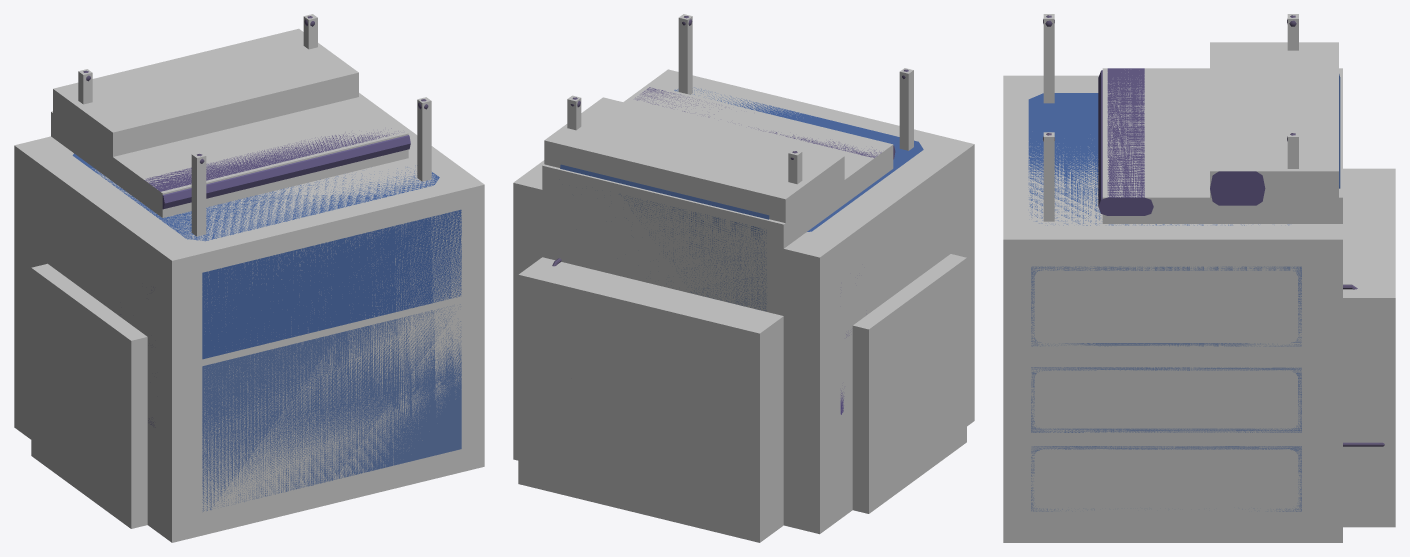
File: SM_Building_03_Top.fbx
The picture shows the model from 3 angles, left to right: view 1: azimuth 30°, elevation 25°; view 2: azimuth 150°, elevation 25°; view 3: azimuth 270°, elevation 25°; orthographic projection. The views are drawn at different scales.
Visible parts, largest first — view 1: SM_Building_03_Top_ConvexHulls, SM_Building_03_Top; view 2: SM_Building_03_Top_ConvexHulls, SM_Building_03_Top; view 3: SM_Building_03_Top_ConvexHulls, SM_Building_03_Top.
Part boxes in pixels (x1,y1,x2,y2): SM_Building_03_Top_ConvexHulls: (14,14,484,542); SM_Building_03_Top: (72,16,461,511); SM_Building_03_Top_ConvexHulls: (513,14,974,542); SM_Building_03_Top: (552,16,923,414); SM_Building_03_Top_ConvexHulls: (1003,14,1395,542); SM_Building_03_Top: (1028,15,1384,511).
Bounding box in the file's own units: 877 × 842 × 935.
2 materials, 1 textured.
